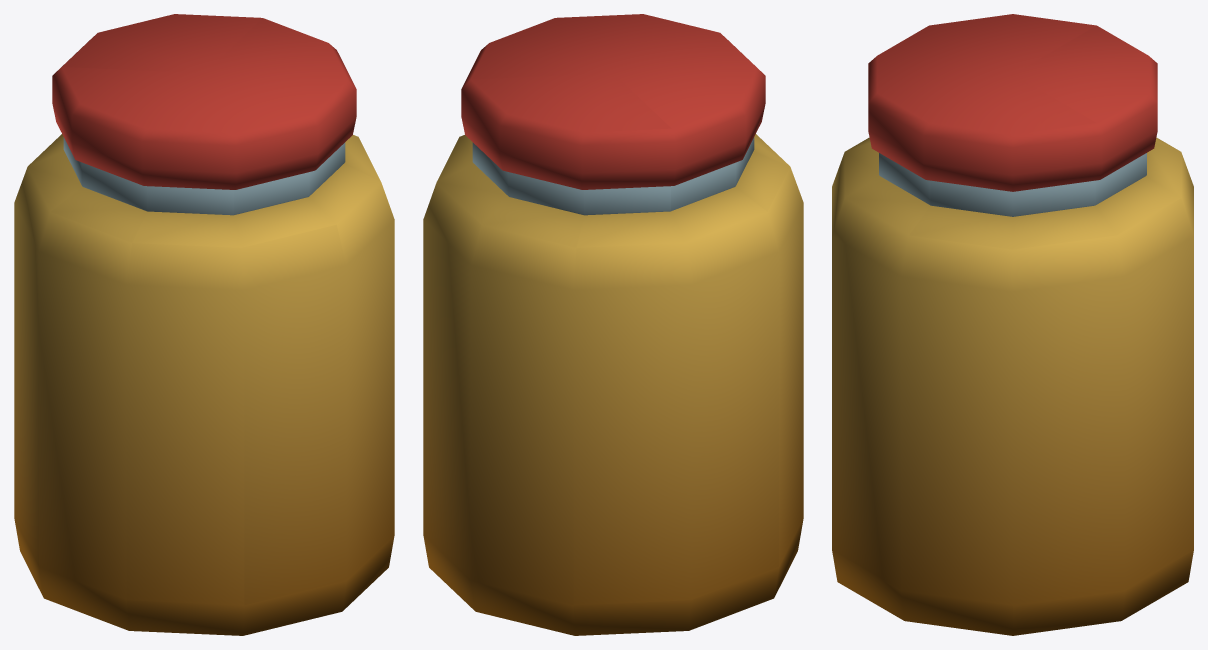
Rendered from prop.honey_jar_giant.lod1.glb.
3 renders of one model, left to right at view 1: azimuth 30°, elevation 25°; view 2: azimuth 150°, elevation 25°; view 3: azimuth 270°, elevation 25°, orthographic.
Parts seen in each view (by area): view 1: honey_jar_giant; view 2: honey_jar_giant; view 3: honey_jar_giant.
Part boxes in pixels (<box>): honey_jar_giant: <box>14,14,394,635</box>; honey_jar_giant: <box>423,14,803,635</box>; honey_jar_giant: <box>832,14,1193,635</box>.
Size of the model in its own units: 4.6 by 6.59 by 4.37.
